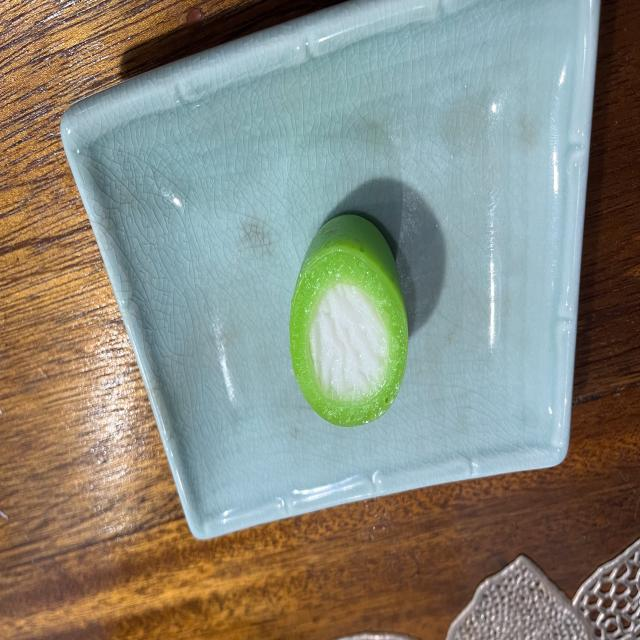nona-manis: (290, 216, 408, 427)
